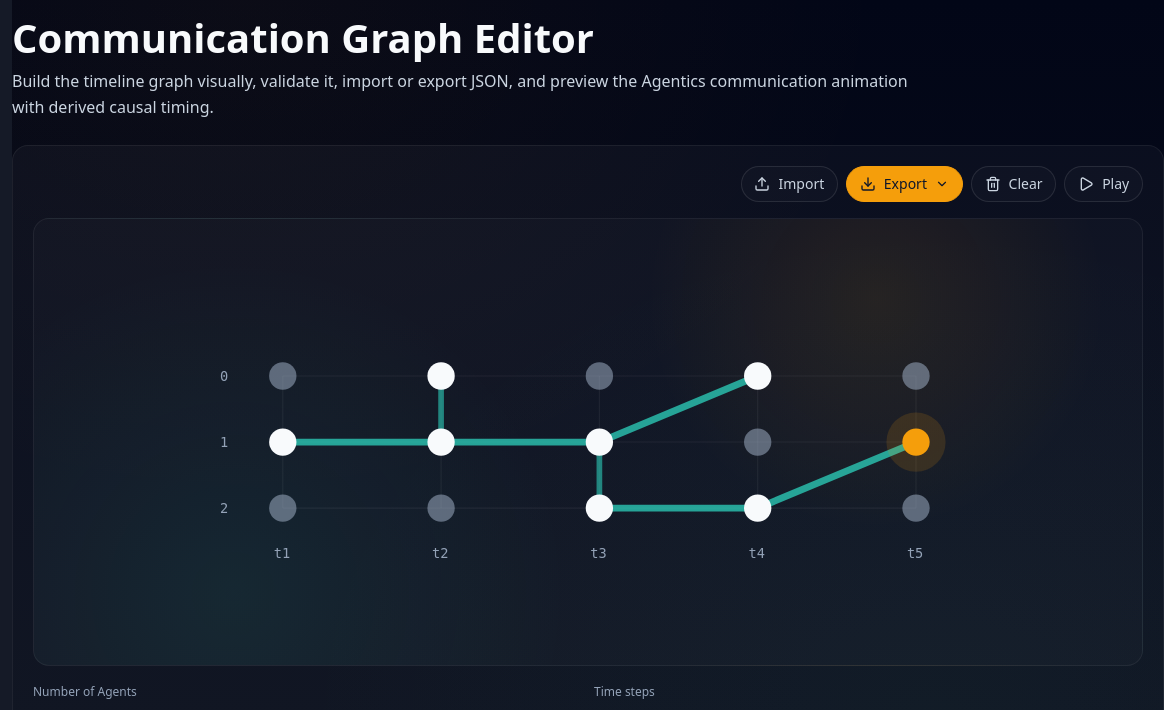
it: EasterEditor › opens the export menu with JSON, WebM, and GIF actions
The width and height of the screenshot is (1164, 710).
Click the button "Export": (904, 184) [846,166,963,202]
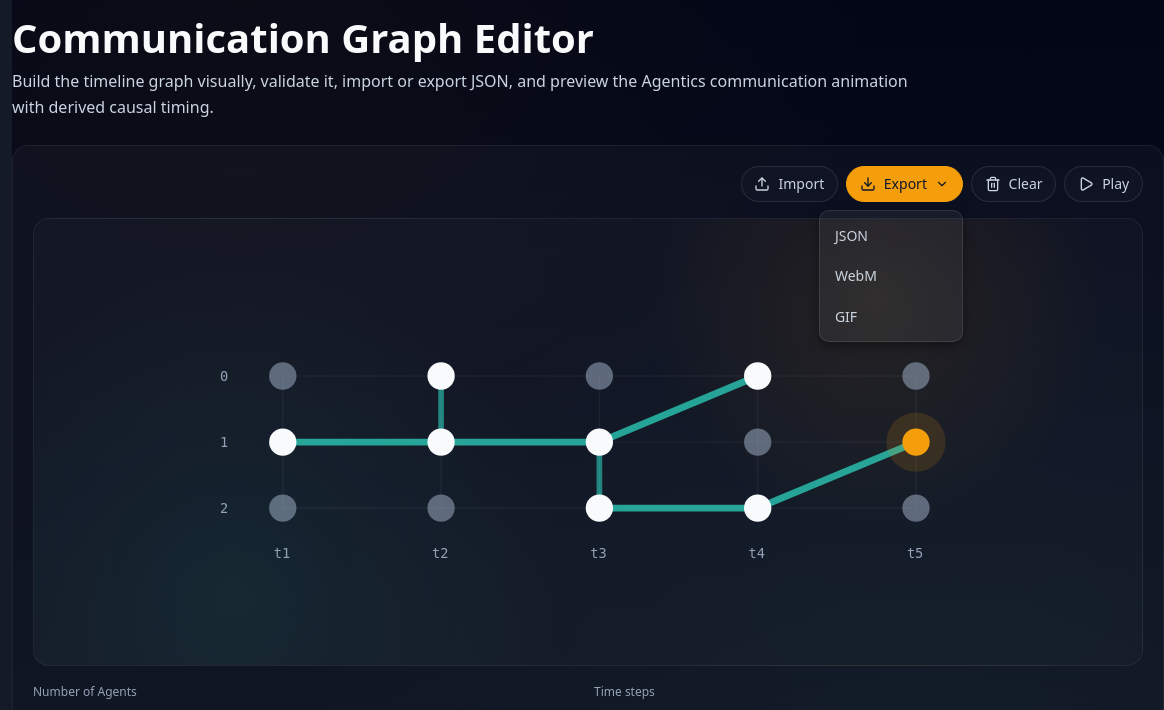
Check: the menu item "JSON" is shown, box [824,215,958,256]
Check: the menu item "WebM" is shown, box [824,256,958,296]
Check: the menu item "GIF" is shown, box [824,296,958,337]
